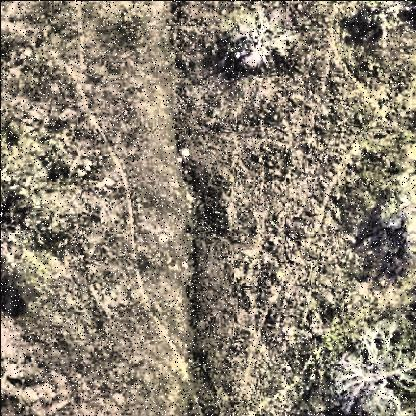tree-top: (327, 325, 416, 416), (217, 2, 299, 75), (377, 164, 416, 249)
